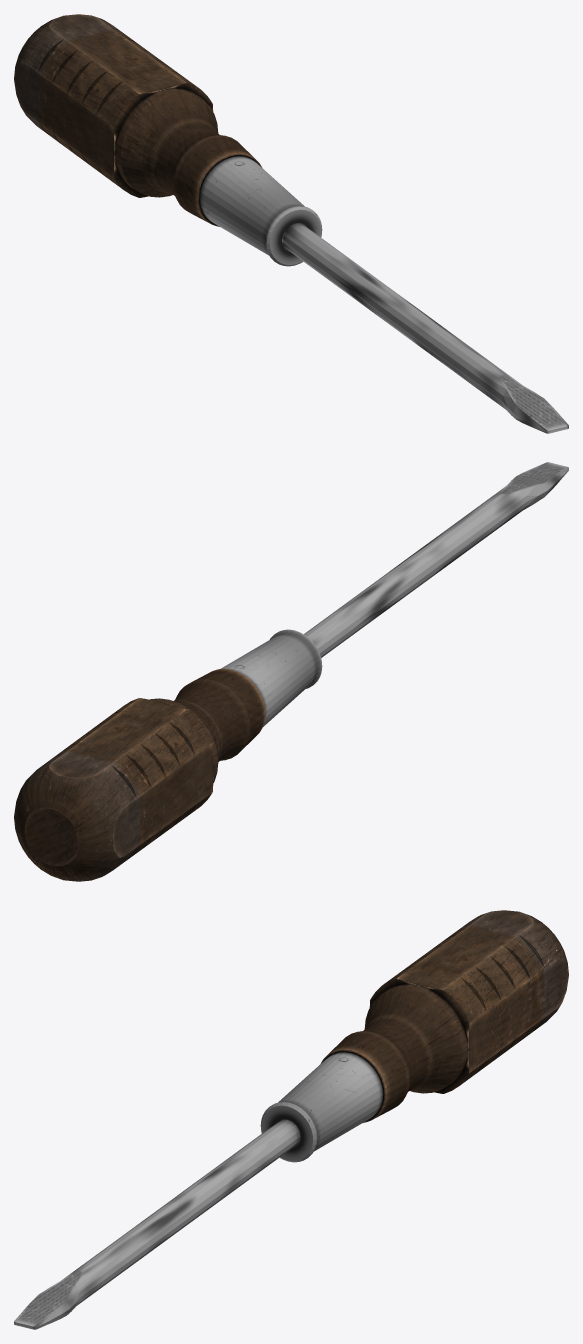
Rendered from workshop_long_phillips_driver.obj.
The picture shows the model from 3 angles, top to bottom: view 1: azimuth 30°, elevation 25°; view 2: azimuth 150°, elevation 25°; view 3: azimuth 330°, elevation 25°; orthographic projection.
Size of the model in its own units: 0.026 by 0.026 by 0.23.
Materials: 1 (1 with a texture image).
